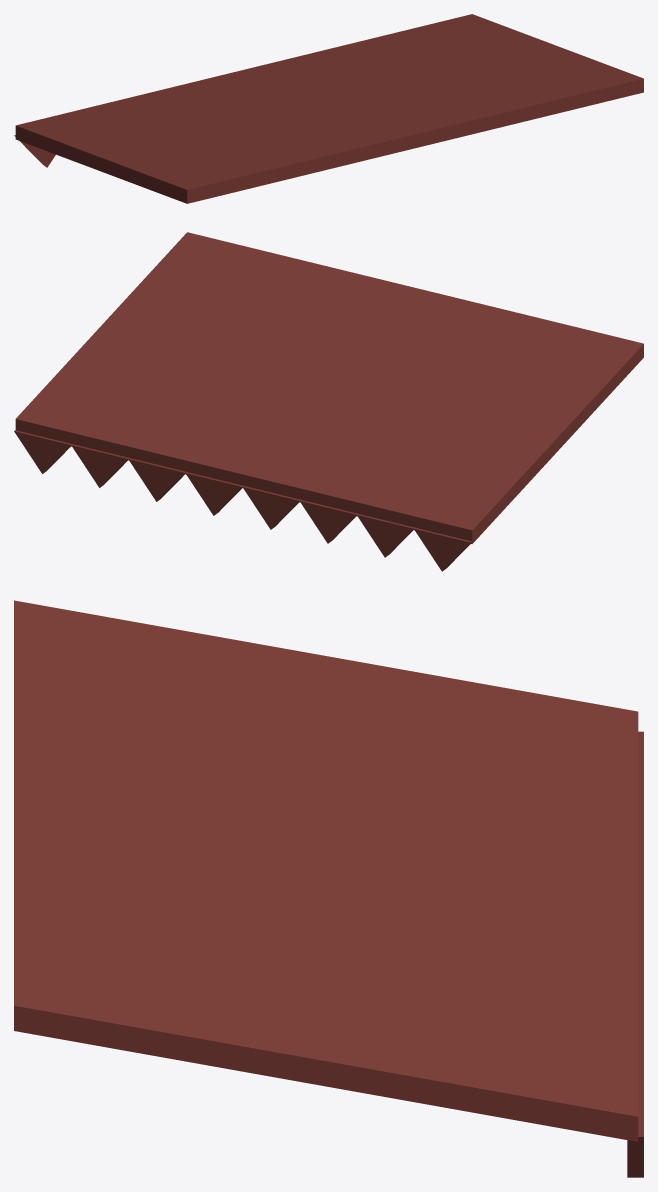
File: market_stall_canopy.fbx
3 views of the same model, one above another, from view 1: azimuth 30°, elevation 25°; view 2: azimuth 150°, elevation 25°; view 3: azimuth 270°, elevation 25° (orthographic). The views are drawn at different scales.
Parts seen in each view (by area): view 1: market_stall_canopy; view 2: market_stall_canopy; view 3: market_stall_canopy.
Boxes of the visible parts, x1,y1,x2,y2 form: market_stall_canopy: (14, 14, 643, 203); market_stall_canopy: (14, 232, 643, 571); market_stall_canopy: (14, 600, 643, 1177).
Size of the model in its own units: 860 by 195 by 565.
